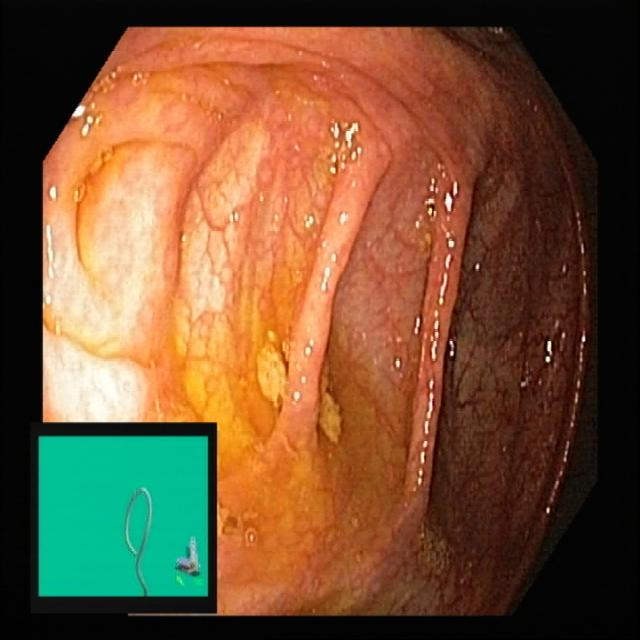normal-cecum: (153, 219, 433, 595)
